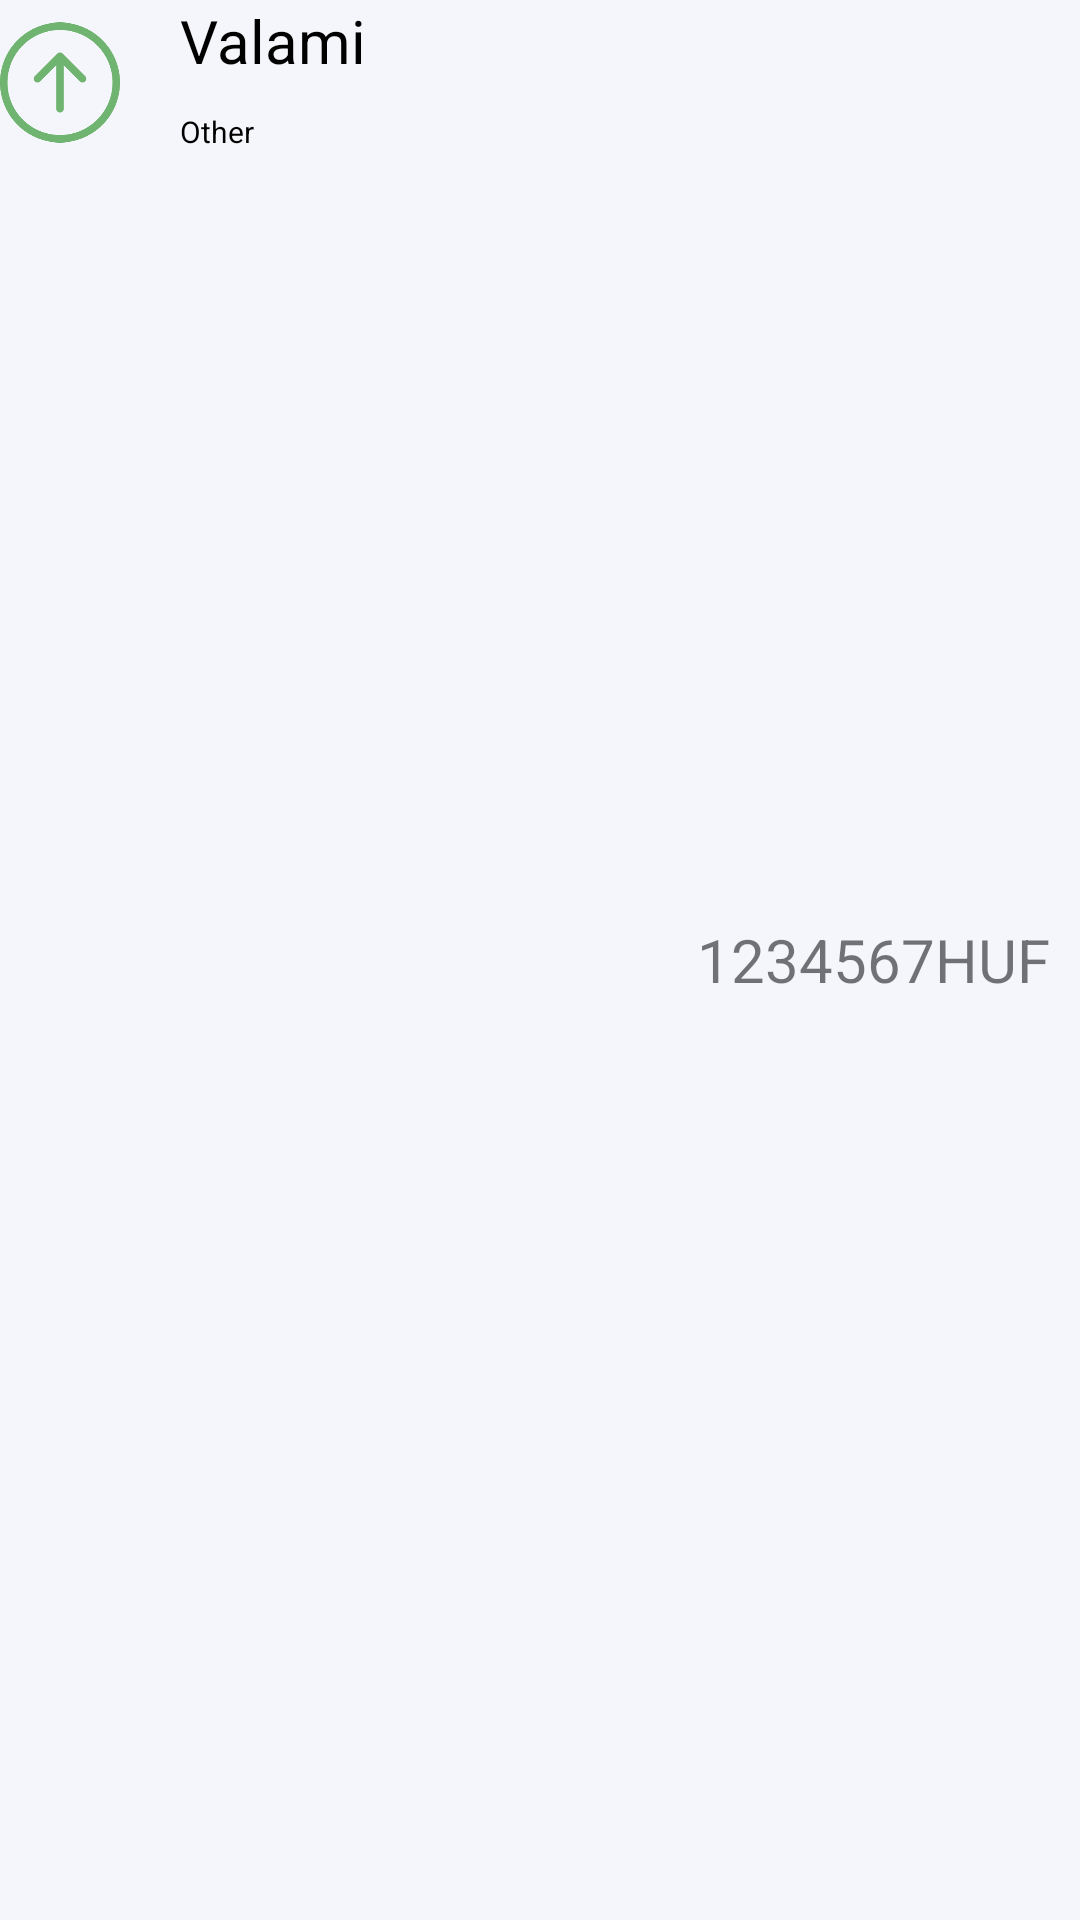

Named icons in this screenshot (1080 x 1920) and their centers, point (x, y):
income: point (60, 82)
